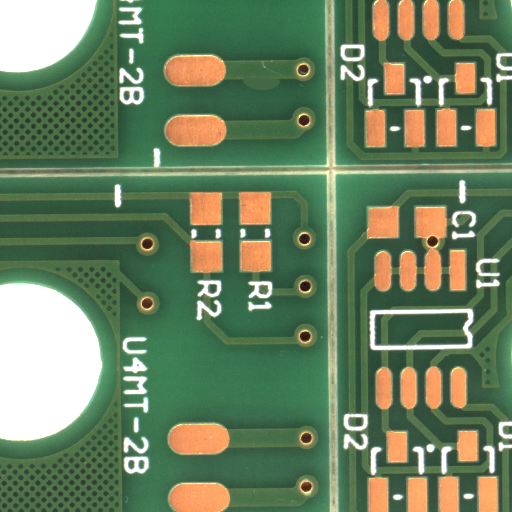Spur: (261, 84, 309, 102)
